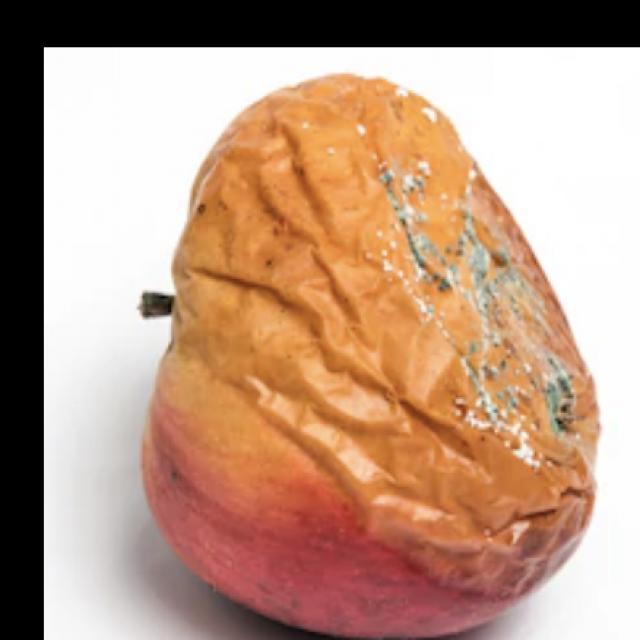Rotten: (148, 82, 587, 625)
